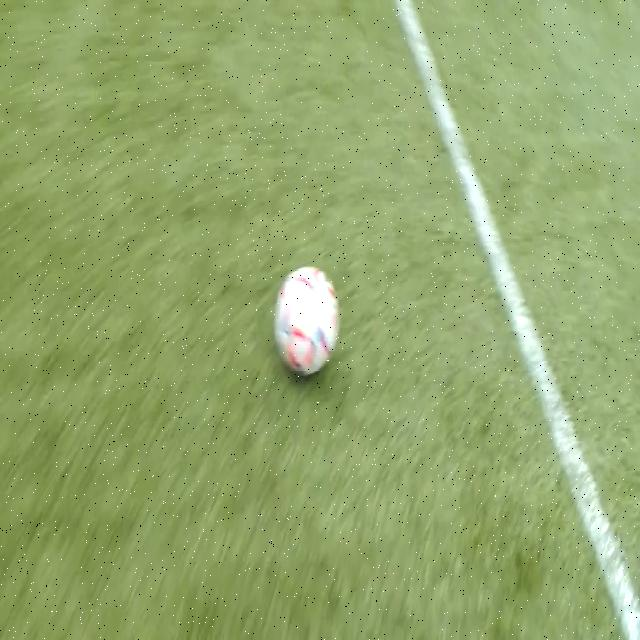ball: (274, 267, 339, 375)
